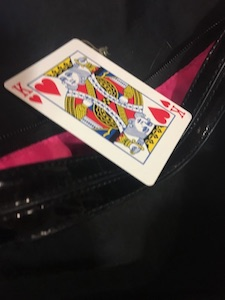KingOfHearts: (1, 35, 195, 188)
